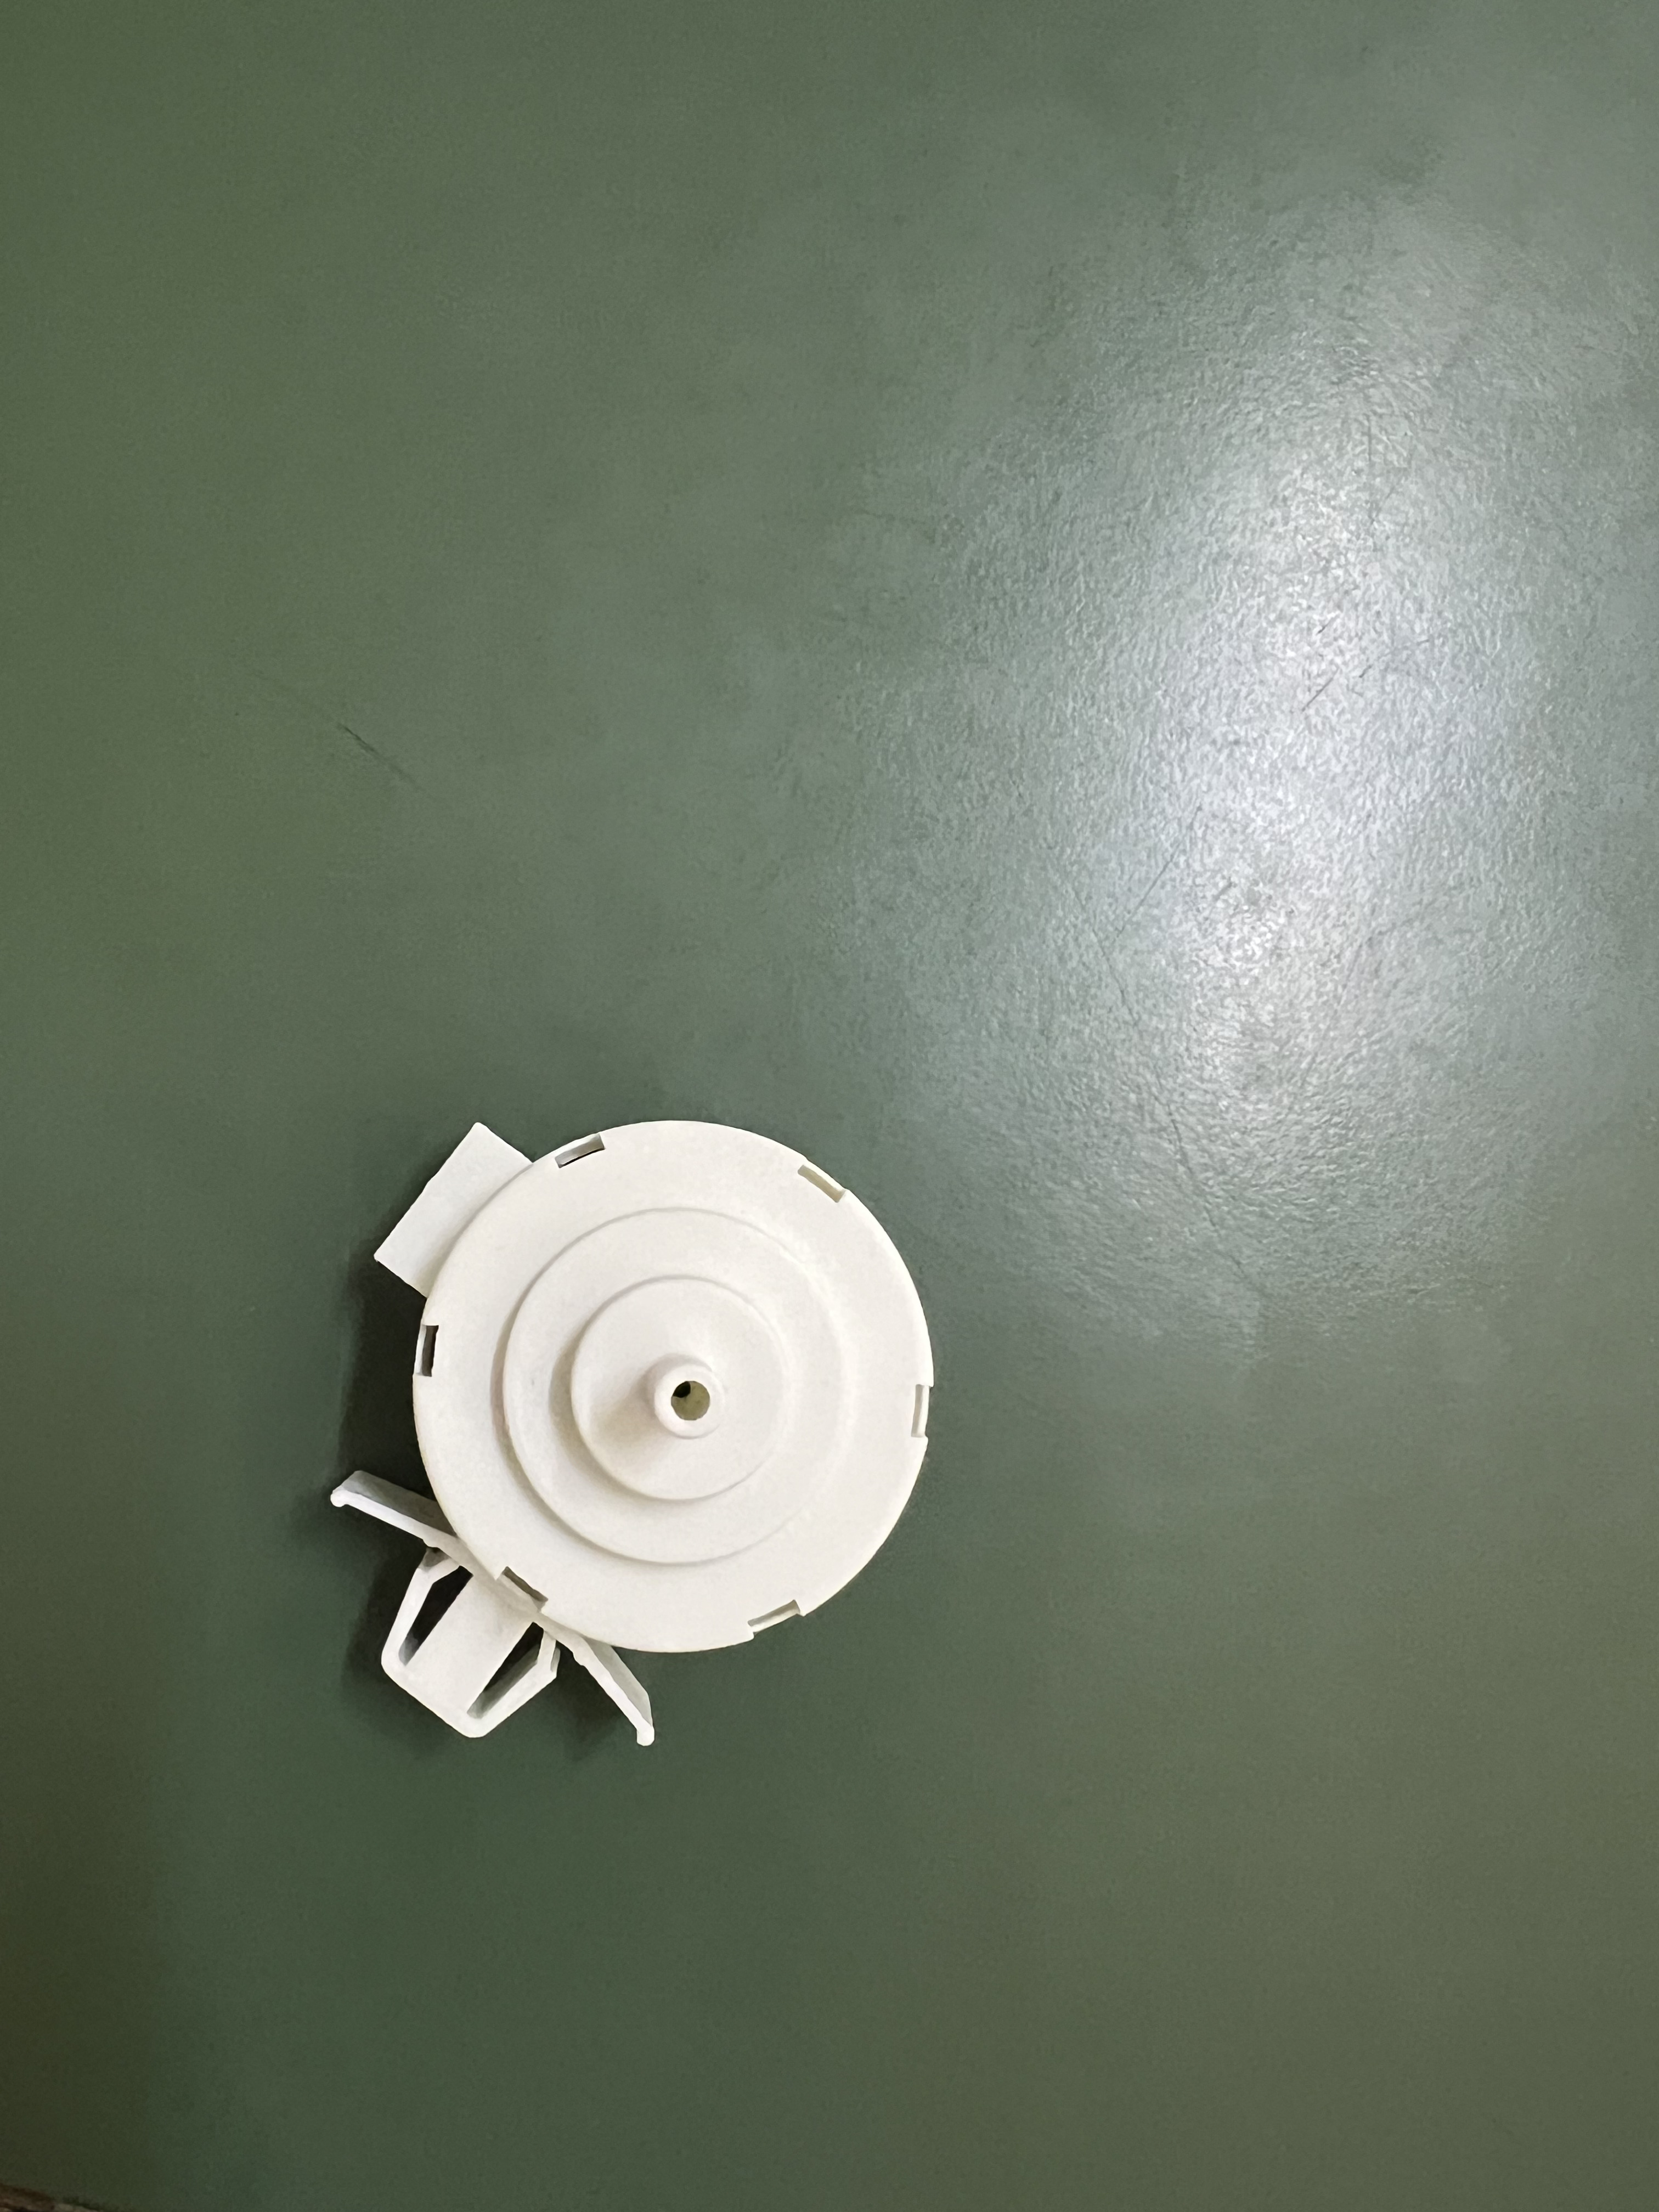pressure_switch_2: (301, 1099, 950, 1766)
